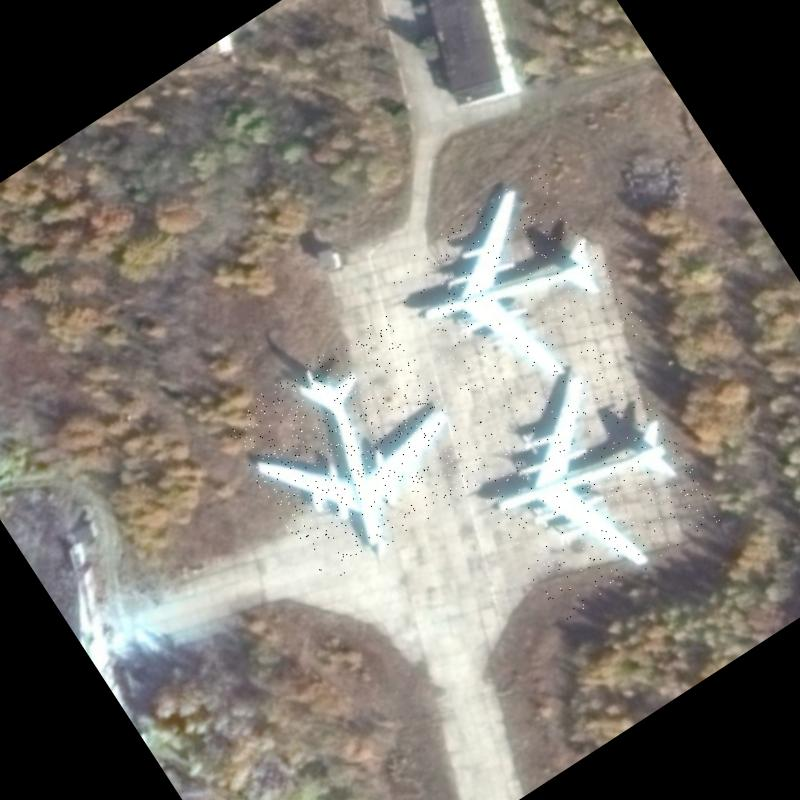A17: (446, 338, 726, 624), (217, 312, 492, 586), (382, 164, 649, 432)
